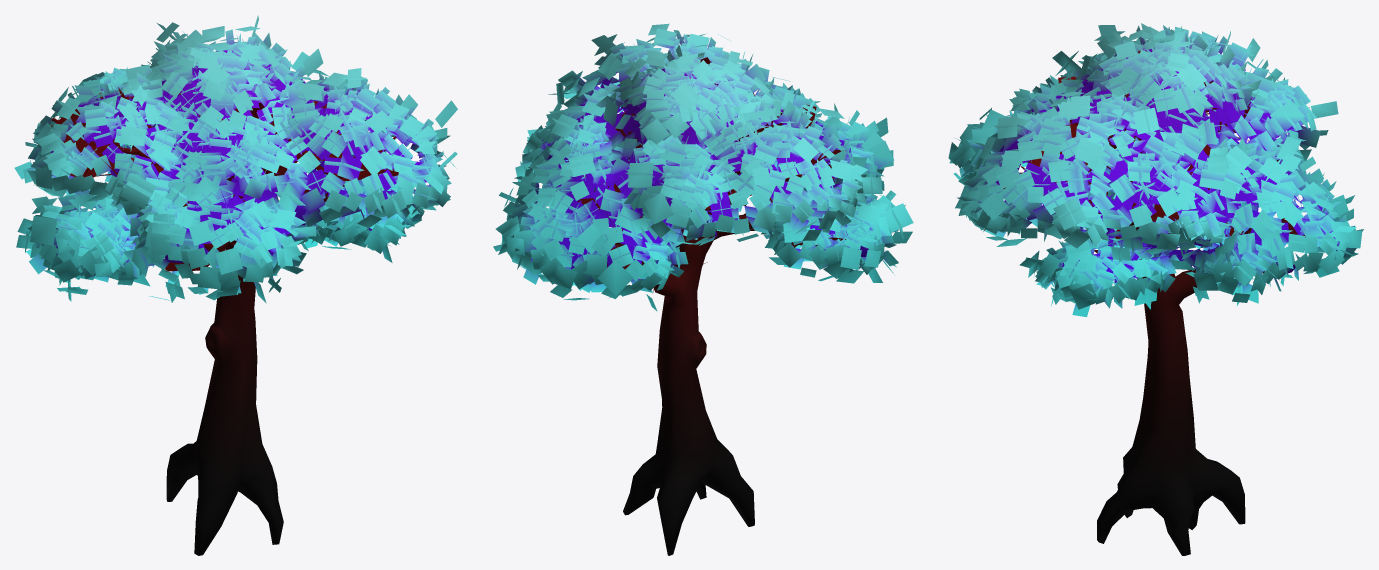
The model's file is SM_Env_Tree_Forest_02.gltf.
3 views of the same model, side by side, from view 1: azimuth 30°, elevation 25°; view 2: azimuth 150°, elevation 25°; view 3: azimuth 270°, elevation 25° (orthographic). The views are drawn at different scales.
Visible parts, largest first — view 1: SM_Env_Tree_Forest_02_LOD0, SM_Env_Tree_Forest_02_Branches_LOD0; view 2: SM_Env_Tree_Forest_02_LOD0, SM_Env_Tree_Forest_02_Branches_LOD0; view 3: SM_Env_Tree_Forest_02_LOD0, SM_Env_Tree_Forest_02_Branches_LOD0.
Part boxes in pixels (box(x1,y1,x2,y2)): SM_Env_Tree_Forest_02_LOD0: box(14, 15, 457, 555); SM_Env_Tree_Forest_02_Branches_LOD0: box(51, 87, 398, 282); SM_Env_Tree_Forest_02_LOD0: box(493, 23, 913, 555); SM_Env_Tree_Forest_02_Branches_LOD0: box(568, 57, 845, 293); SM_Env_Tree_Forest_02_LOD0: box(948, 23, 1363, 555); SM_Env_Tree_Forest_02_Branches_LOD0: box(1003, 50, 1304, 273).
Bounding box in the file's own units: 10.43 × 12.53 × 9.5.
